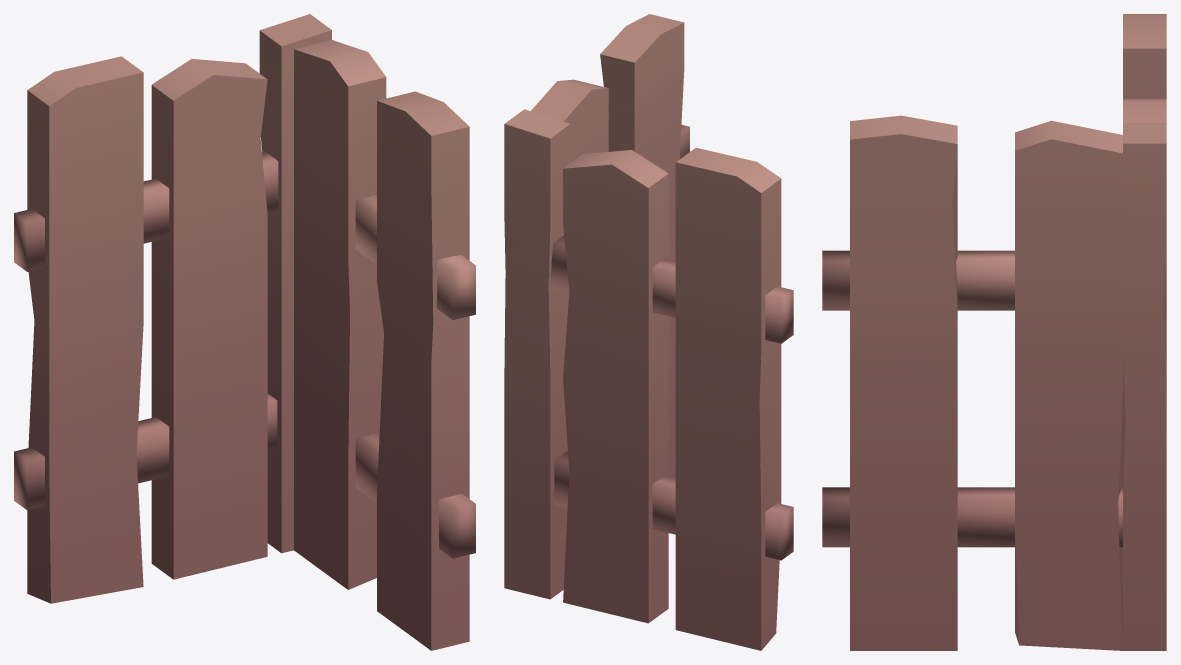
File: Fence_Corner.glb
The picture shows the model from 3 angles, left to right: view 1: azimuth 30°, elevation 25°; view 2: azimuth 150°, elevation 25°; view 3: azimuth 270°, elevation 25°; orthographic projection. The views are drawn at different scales.
Parts seen in each view (by area): view 1: Fence_Corner; view 2: Fence_Corner; view 3: Fence_Corner.
Part boxes in pixels (<box>): Fence_Corner: <box>14,14,475,650</box>; Fence_Corner: <box>504,14,793,650</box>; Fence_Corner: <box>822,14,1166,650</box>.
Bounding box in the file's own units: 0.2669 × 0.4421 × 0.2669.
Materials: 1 (1 with a texture image).
